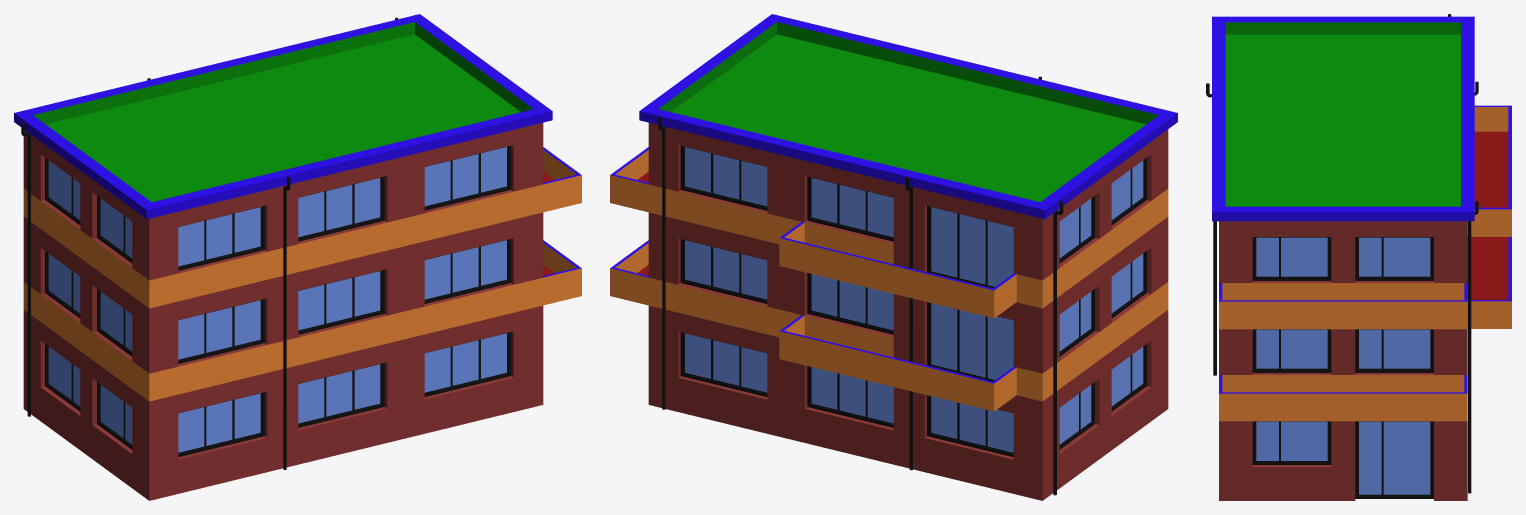
File: Building_A.FBX
The picture shows the model from 3 angles, left to right: view 1: azimuth 30°, elevation 25°; view 2: azimuth 150°, elevation 25°; view 3: azimuth 270°, elevation 25°; orthographic projection.
Visible parts, largest first — view 1: Building_A; view 2: Building_A; view 3: Building_A.
Part boxes in pixels (x1,y1,x2,y2): Building_A: (14,14,581,500); Building_A: (610,14,1177,500); Building_A: (1206,14,1511,500).
Size of the model in its own units: 14951 by 9493 by 9023.
